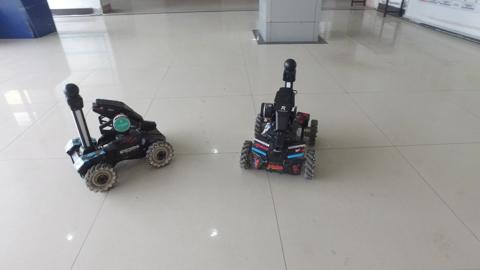chariot: (58, 81, 177, 196), (235, 56, 327, 184)
